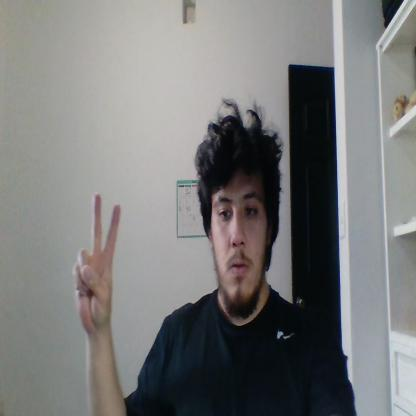V: (72, 192, 122, 335)
